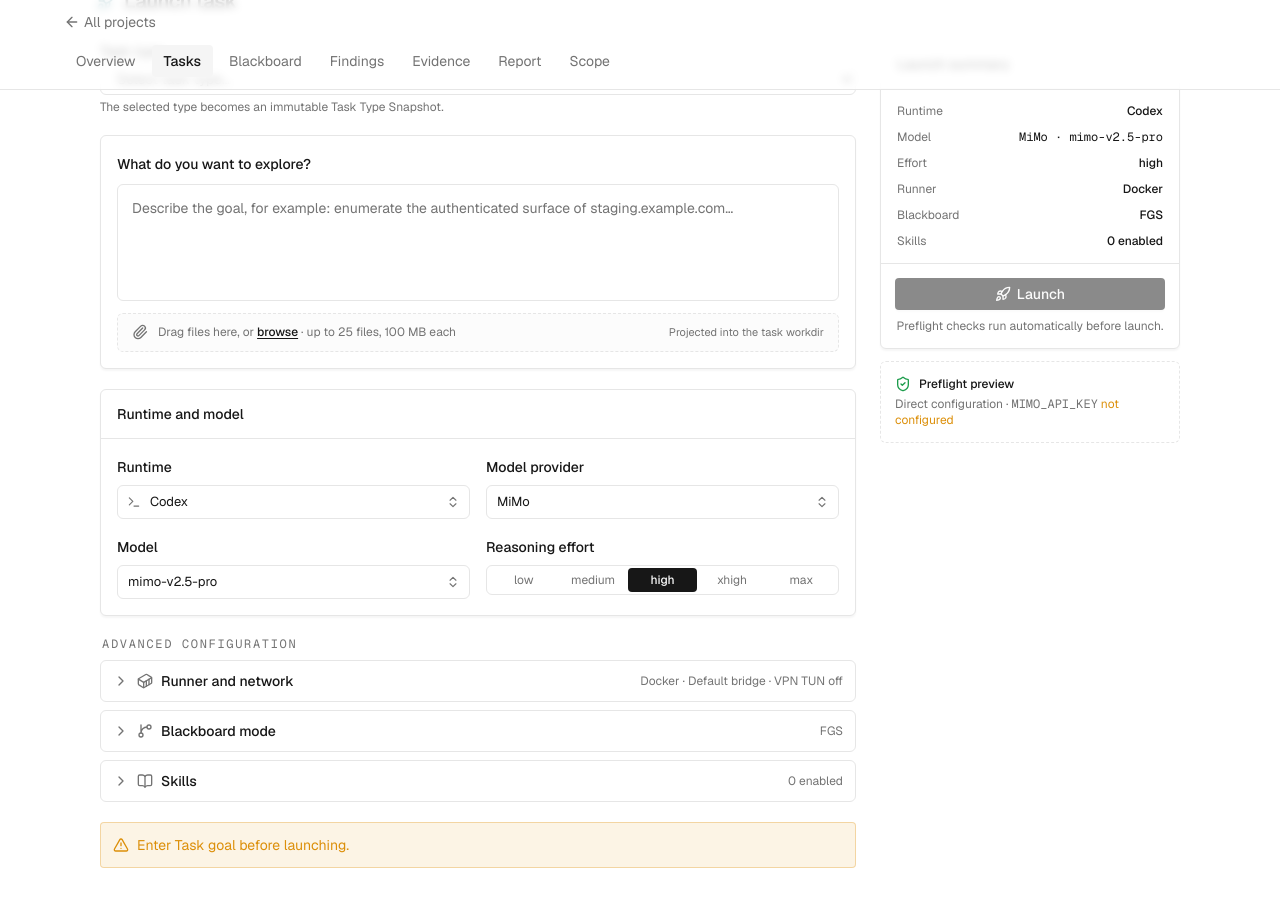
Scenario: TaskLaunchPage › shows enabled global skills for direct configuration before launch
This screenshot has width=1280, height=900.
(page scrolled)
Click the button "Skills 0 enabled" at (179, 780), box 101,760 -> 855,800
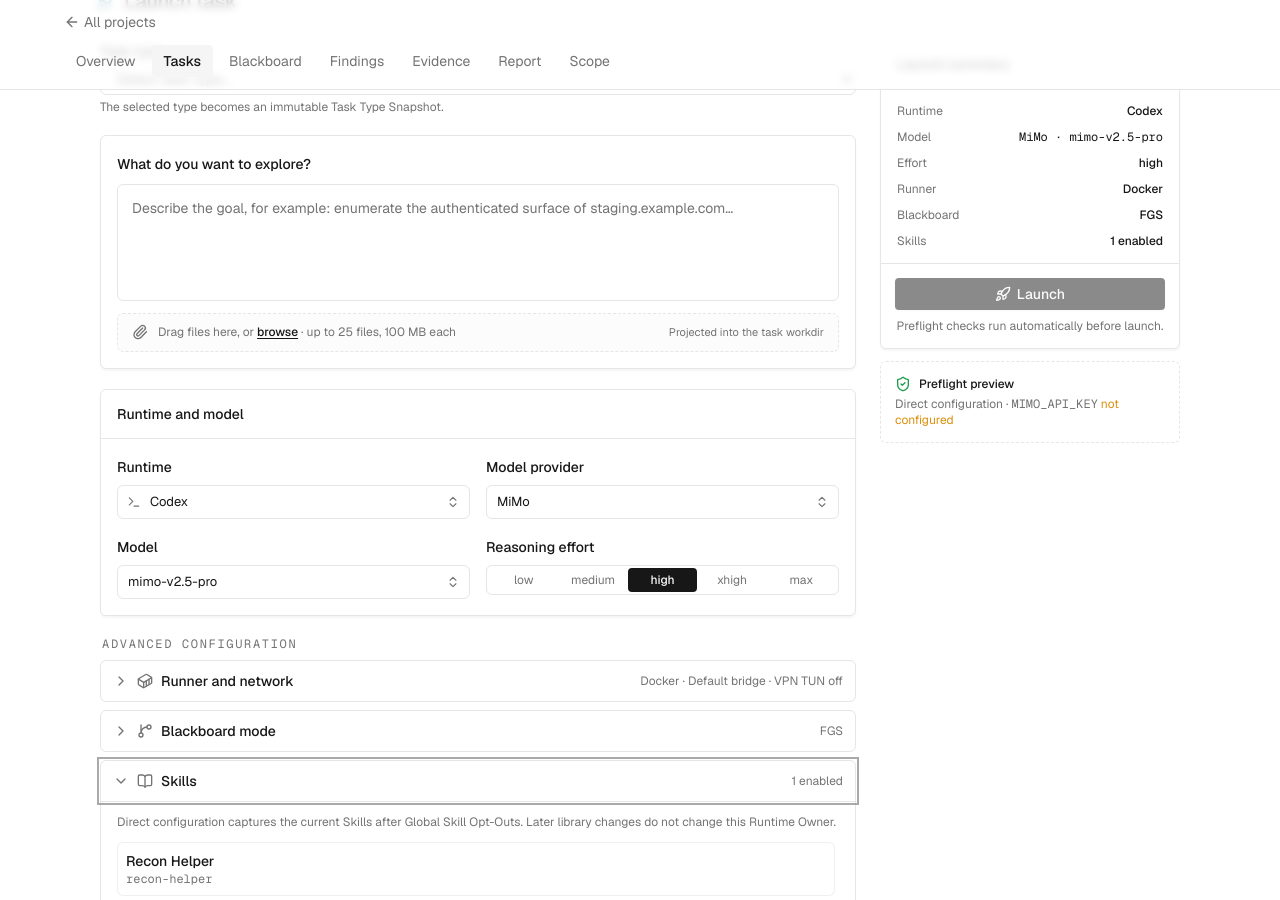
expect the text "after Global Skill Opt-Outs" is shown: met, box 117,814 -> 836,830
expect the text "Recon Helper" is shown: met, box 126,852 -> 214,870
